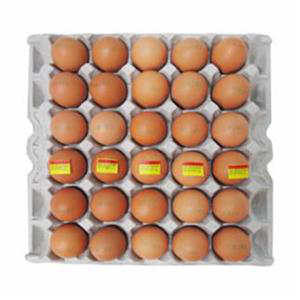egg: (48, 37, 252, 262)
